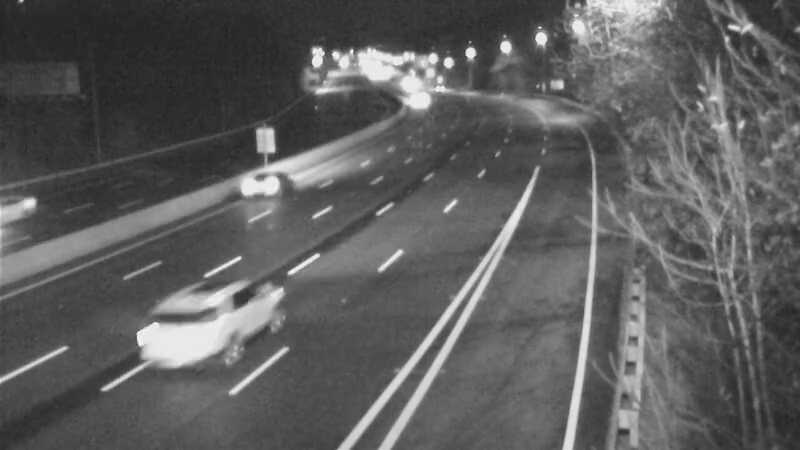vehicle: (136, 281, 246, 391), (223, 146, 303, 226), (1, 171, 66, 251), (412, 66, 462, 116), (391, 76, 441, 126)
